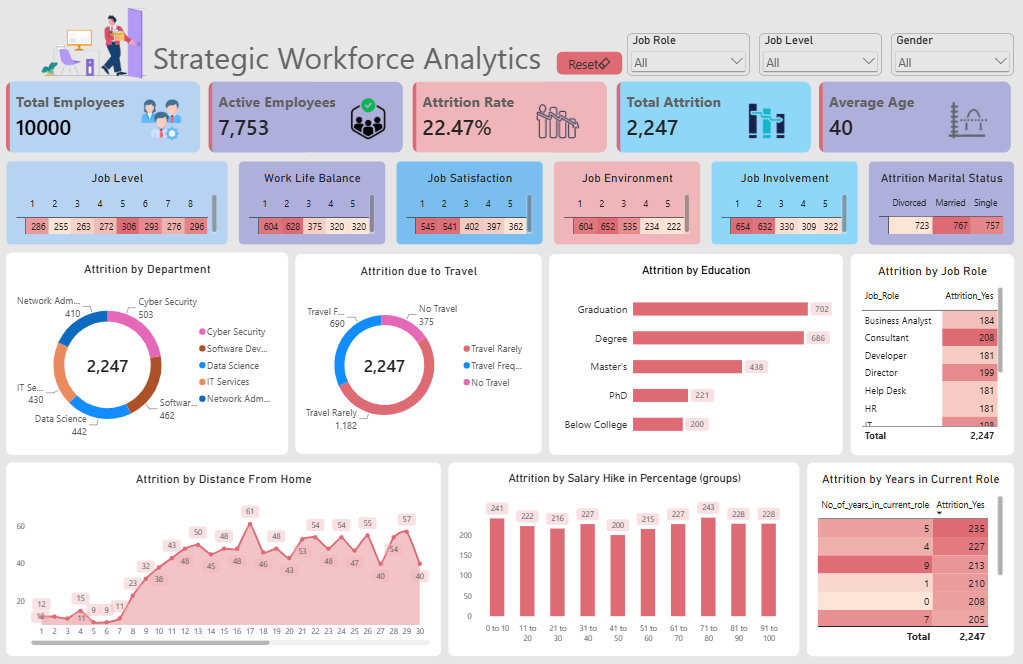

The dashboard page shown, as its layout file describes it:
{"tool":"powerbi","page":{"name":"Page 1","canvas":[1650,1080],"ordinal":0},"visuals":[{"type":"cardVisual","fields":{"Data":["CountNonNull(HR_Attrition_dataset.Employee_ID)"]},"box":[23.9,150.3,309,113],"z":0},{"type":"cardVisual","fields":{"Data":["HR_Attrition_dataset.Attrition_Yes"]},"box":[993.7,150.3,309,113],"z":1000},{"type":"cardVisual","fields":{"Data":["HR_Attrition_dataset.Attrition_Rate"]},"box":[670.4,150.3,309,113],"z":2000},{"type":"cardVisual","fields":{"Data":["HR_Attrition_dataset.Attrition_No"]},"box":[347.2,150.3,309,113],"z":3000},{"type":"cardVisual","fields":{"Data":["HR_Attrition_dataset.Average_Age"]},"box":[1317,150.3,305,113],"z":4000},{"type":"donutChart","title":"Attrition by Department","fields":{"Category":["HR_Attrition_dataset.Department"],"Y":["HR_Attrition_dataset.Attrition_Yes"]},"box":[23.9,422.3,448.6,322.1],"z":5000},{"type":"tableEx","title":"Attrition by Job Role","fields":{"Values":["HR_Attrition_dataset.Job_Role","HR_Attrition_dataset.Attrition_Yes"]},"box":[1367.1,424.7,260.1,319.7],"z":6000},{"type":"lineChart","title":"Attrition by Distance From Home","fields":{"Category":["HR_Attrition_dataset.Distance_From_Home"],"Y":["HR_Attrition_dataset.Attrition_Yes"]},"box":[23.9,756.3,692,307.8],"z":7000},{"type":"pivotTable","title":"Job Satisfaction ","fields":{"Columns":["HR_Attrition_dataset.Job_Satisfaction"],"Values":["HR_Attrition_dataset.Attrition_Yes"]},"box":[643.9,276.8,234,133.6],"z":8000},{"type":"pivotTable","title":"Job Environment ","fields":{"Columns":["HR_Attrition_dataset.Environment_Satisfaction"],"Values":["HR_Attrition_dataset.Attrition_Yes"]},"box":[894.5,276.8,234,133.6],"z":9000},{"type":"pivotTable","title":"Job Involvement","fields":{"Columns":["HR_Attrition_dataset.Job_Involvement"],"Values":["HR_Attrition_dataset.Attrition_Yes"]},"box":[1145.2,276.8,234,133.6],"z":10000},{"type":"pivotTable","title":"Work Life Balance","fields":{"Columns":["HR_Attrition_dataset.Work_life_balance"],"Values":["HR_Attrition_dataset.Attrition_Yes"]},"box":[393.8,276.8,234,133.6],"z":11000},{"type":"pivotTable","title":"Job Level","fields":{"Columns":["HR_Attrition_dataset.Job_Level"],"Values":["HR_Attrition_dataset.Attrition_Yes"]},"box":[23.9,276.8,353.1,133.6],"z":12000},{"type":"donutChart","title":"Attrition due to Travel","fields":{"Category":["HR_Attrition_dataset.Business_Travel"],"Y":["HR_Attrition_dataset.Attrition_Yes"]},"box":[484.3,424.7,391.3,318],"z":13000},{"type":"tableEx","title":"Attrition by Years in Current Role","fields":{"Values":["HR_Attrition_dataset.No_of_years_in_current_role","HR_Attrition_dataset.Attrition_Yes"]},"box":[1297.9,756.3,329.3,307.8],"z":14000},{"type":"clusteredColumnChart","title":"Attrition by Salary Hike in Percentage (groups)","fields":{"Category":["HR_Attrition_dataset.Salary_Hike_in_percent (groups)"],"Y":["HR_Attrition_dataset.Attrition_Yes"]},"box":[727.7,756.3,558.3,307.8],"z":15000},{"type":"clusteredBarChart","title":"Attrition by Education","fields":{"Category":["HR_Attrition_dataset.Education"],"Y":["HR_Attrition_dataset.Attrition_Yes"]},"box":[887.6,424.7,467,319],"z":16000},{"type":"slicer","fields":{"Values":["HR_Attrition_dataset.Job_Level"]},"box":[1221.6,74,195,66.8],"z":18000},{"type":"slicer","fields":{"Values":["HR_Attrition_dataset.Job_Role"]},"box":[1011.6,74,195,66.8],"z":19000},{"type":"actionButton","box":[899.5,102.6,105,37],"z":20000},{"type":"pivotTable","title":"Attrition Marital Status","fields":{"Columns":["HR_Attrition_dataset.Marital_Status"],"Values":["HR_Attrition_dataset.Attrition_Yes"]},"box":[1395.8,276.8,232,134],"z":21000},{"type":"image","box":[207.6,178.9,126.5,64.4],"z":22001},{"type":"image","box":[501,152.7,198,114.5],"z":22002},{"type":"image","box":[1147.6,169.4,176.6,81.1],"z":22003},{"type":"image","box":[837.5,169.4,124.1,88.3],"z":22006},{"type":"image","box":[1462.6,162.2,183.7,95.4],"z":22007},{"type":"slicer","fields":{"Values":["HR_Attrition_dataset.Gender"]},"box":[1431.5,74,195,66.8],"z":22008},{"type":"image","box":[23.9,26.2,269.6,124.1],"z":22009},{"type":"textbox","box":[257.7,78.7,637,74],"z":22010}]}

Visuals, with their boxes in screenshot pixels (x1, y1, x2, y2), scaled from the page's 1650x1080 canvas onto the 1023x664 screenshot:
cardVisual - CountNonNull(HR_Attrition_dataset.Employee_ID): (15,92,206,162)
cardVisual - HR_Attrition_dataset.Attrition_Yes: (616,92,808,162)
cardVisual - HR_Attrition_dataset.Attrition_Rate: (416,92,607,162)
cardVisual - HR_Attrition_dataset.Attrition_No: (215,92,407,162)
cardVisual - HR_Attrition_dataset.Average_Age: (817,92,1006,162)
"Attrition by Department" donutChart: (15,260,293,458)
"Attrition by Job Role" tableEx: (848,261,1009,458)
"Attrition by Distance From Home" lineChart: (15,465,444,654)
"Job Satisfaction " pivotTable: (399,170,544,252)
"Job Environment " pivotTable: (555,170,700,252)
"Job Involvement" pivotTable: (710,170,855,252)
"Work Life Balance" pivotTable: (244,170,389,252)
"Job Level" pivotTable: (15,170,234,252)
"Attrition due to Travel" donutChart: (300,261,543,457)
"Attrition by Years in Current Role" tableEx: (805,465,1009,654)
"Attrition by Salary Hike in Percentage (groups)" clusteredColumnChart: (451,465,797,654)
"Attrition by Education" clusteredBarChart: (550,261,840,457)
slicer - HR_Attrition_dataset.Job_Level: (757,45,878,87)
slicer - HR_Attrition_dataset.Job_Role: (627,45,748,87)
actionButton: (558,63,623,86)
"Attrition Marital Status" pivotTable: (865,170,1009,253)
image: (129,110,207,150)
image: (311,94,433,164)
image: (712,104,821,154)
image: (519,104,596,158)
image: (907,100,1021,158)
slicer - HR_Attrition_dataset.Gender: (888,45,1008,87)
image: (15,16,182,92)
textbox: (160,48,555,94)
